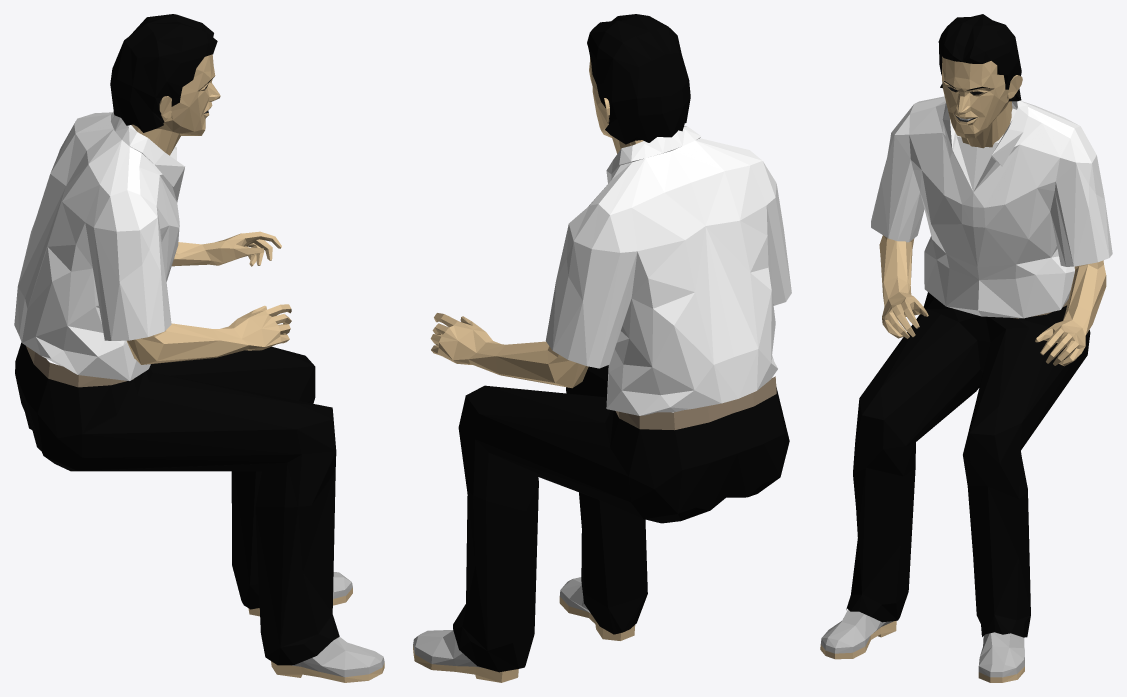
Rendered from man2.glb.
3 views of the same model, side by side, from view 1: azimuth 30°, elevation 25°; view 2: azimuth 150°, elevation 25°; view 3: azimuth 270°, elevation 25° (orthographic). The views are drawn at different scales.
Parts seen in each view (by area): view 1: Group1 (×2), Group2, Group3 (×2), Group5, Group6 (×2), Group4; view 2: Group1 (×2), Group2, Group3 (×2), Group4, Group7 (×2), Group6 (×2); view 3: Group1, Group2 (×2), Group3 (×2), Group4, Group5, Group6 (×2), Group7.
Part boxes in pixels (bbox=[...]): Group1 (×2): bbox=[15, 342, 339, 665]; Group2: bbox=[14, 112, 184, 380]; Group3 (×2): bbox=[110, 14, 220, 155]; Group5: bbox=[127, 304, 291, 364]; Group6 (×2): bbox=[271, 636, 384, 682]; Group4: bbox=[172, 231, 281, 266]; Group1 (×2): bbox=[453, 365, 789, 672]; Group2: bbox=[545, 126, 791, 415]; Group3 (×2): bbox=[587, 14, 690, 153]; Group4: bbox=[430, 313, 588, 388]; Group7 (×2): bbox=[413, 630, 518, 682]; Group6 (×2): bbox=[559, 577, 635, 640]; Group1: bbox=[846, 292, 1090, 637]; Group2 (×2): bbox=[871, 96, 1112, 318]; Group3 (×2): bbox=[938, 14, 1022, 148]; Group4: bbox=[1035, 260, 1106, 366]; Group5: bbox=[879, 235, 928, 338]; Group6 (×2): bbox=[820, 609, 896, 659]; Group7: bbox=[978, 632, 1024, 677].
Bounding box in the file's own units: 17.57 × 32.11 × 14.72.
